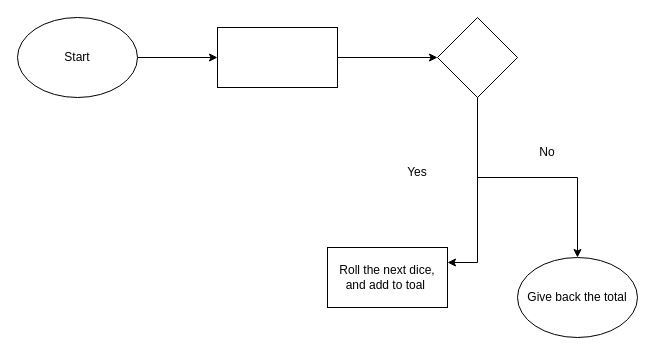
Image size: 655x355. Some labels were removed from this diagram. The centre of each missing label's shape, as x and y in pixels:
"Dice left to roll?" belongs at (x=477, y=57).
"Start total at 0" belongs at (x=277, y=57).
